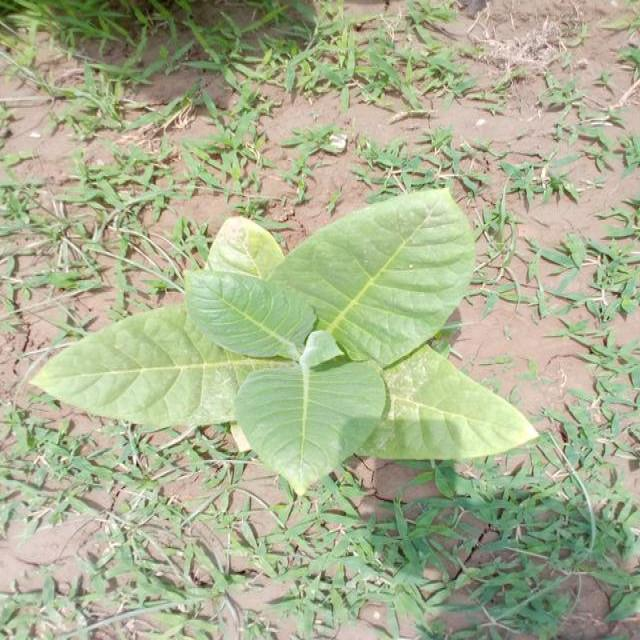crop: (46, 221, 534, 473)
